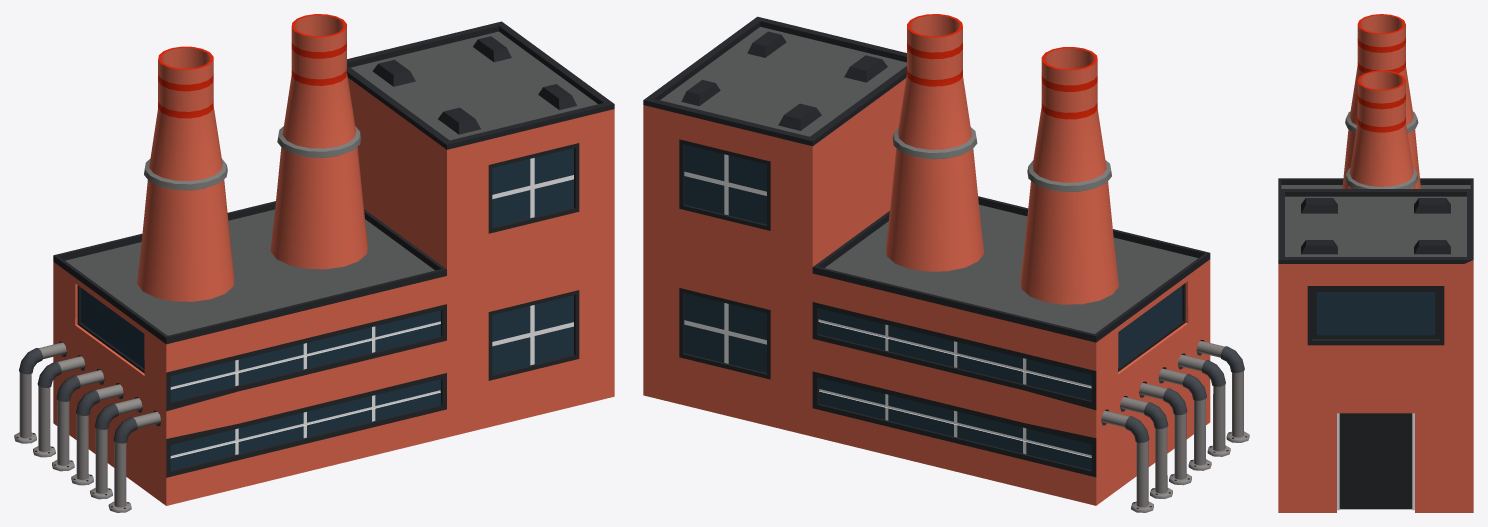
File: Factory_2.fbx
The picture shows the model from 3 angles, left to right: view 1: azimuth 30°, elevation 25°; view 2: azimuth 150°, elevation 25°; view 3: azimuth 270°, elevation 25°; orthographic projection. The views are drawn at different scales.
Parts seen in each view (by area): view 1: Factory_2; view 2: Factory_2; view 3: Factory_2.
Part boxes in pixels (left/top/right/bottom): Factory_2: left=14, top=14, right=614, bottom=512; Factory_2: left=643, top=14, right=1249, bottom=512; Factory_2: left=1278, top=14, right=1473, bottom=512.
Bounding box in the file's own units: 1629 × 1208 × 643.
